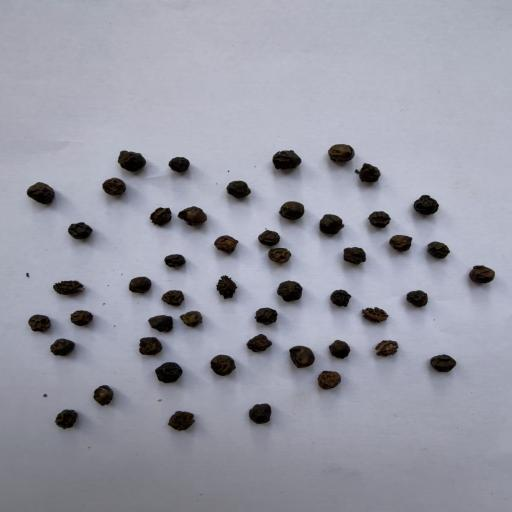Black_pepper: (160, 408, 205, 442), (207, 348, 248, 382), (152, 357, 190, 393), (104, 146, 150, 175), (240, 398, 277, 433), (44, 404, 84, 435), (86, 381, 122, 414), (267, 146, 306, 176), (215, 176, 259, 202), (465, 260, 503, 290), (324, 139, 361, 169), (425, 348, 461, 378), (93, 174, 134, 199), (59, 221, 100, 246), (326, 285, 359, 315), (274, 278, 307, 308), (422, 235, 456, 264), (25, 180, 60, 208), (314, 212, 350, 239), (307, 368, 349, 391), (402, 285, 436, 313), (274, 199, 310, 225), (19, 309, 55, 335), (241, 327, 273, 356), (176, 306, 209, 334), (176, 202, 210, 229), (123, 274, 159, 299), (324, 336, 356, 364), (286, 342, 321, 367), (211, 230, 242, 258), (412, 191, 443, 218), (63, 307, 101, 329), (143, 309, 176, 334), (362, 206, 396, 230), (337, 244, 372, 267), (160, 154, 196, 176), (248, 304, 281, 328), (134, 333, 164, 359), (386, 232, 416, 256), (266, 245, 294, 270), (162, 252, 196, 272), (44, 336, 77, 356), (254, 226, 286, 246), (358, 160, 382, 186), (159, 286, 187, 308)
papaya_seed: (42, 277, 91, 302), (143, 202, 178, 231), (211, 270, 242, 301), (360, 301, 396, 327), (374, 335, 408, 361)
